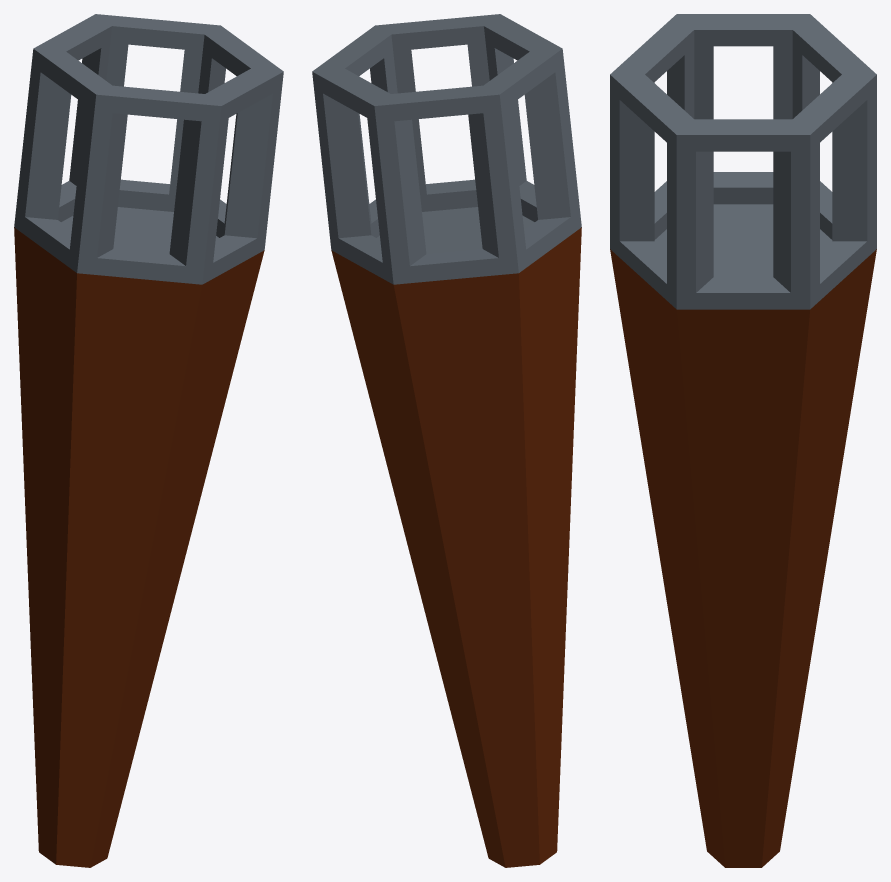
The model's file is torch.gltf.
3 renders of one model, left to right at view 1: azimuth 30°, elevation 25°; view 2: azimuth 150°, elevation 25°; view 3: azimuth 270°, elevation 25°, orthographic. The views are drawn at different scales.
Visible parts, largest first — view 1: Torch; view 2: Torch; view 3: Torch.
Boxes of the visible parts, x1,y1,x2,y2 form: Torch: (14,14,283,867); Torch: (312,14,581,867); Torch: (610,14,876,867).
Bounding box in the file's own units: 0.1897 × 0.6914 × 0.2.
